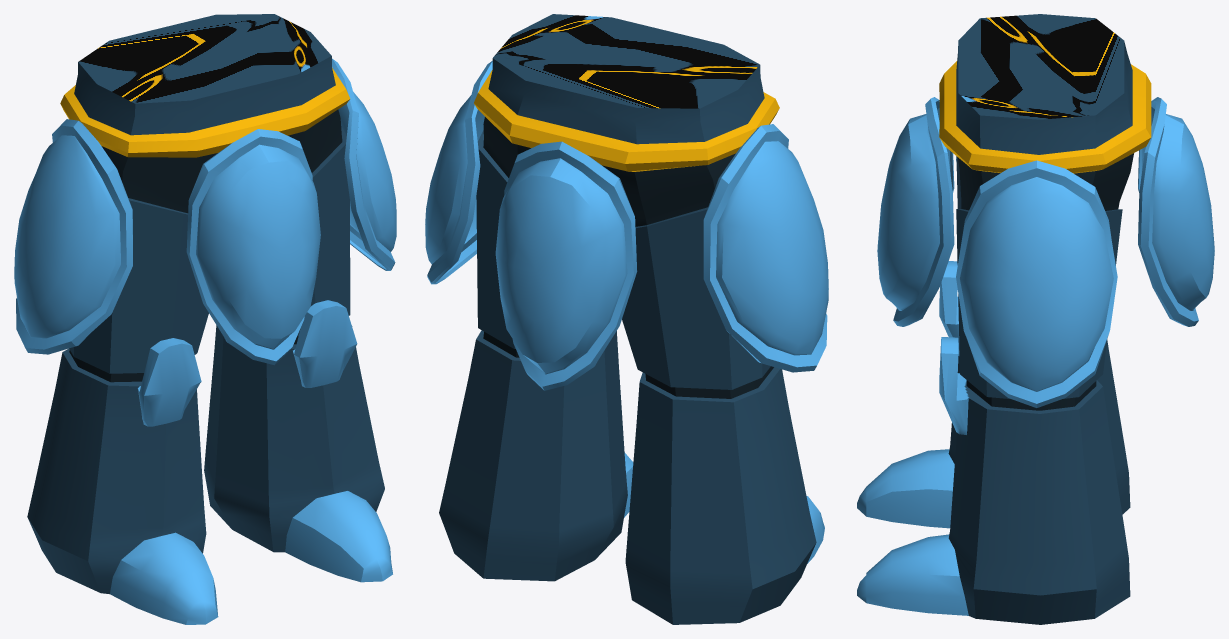
Rendered from Shovel_Knight_Legs.fbx.
3 views of the same model, side by side, from view 1: azimuth 30°, elevation 25°; view 2: azimuth 150°, elevation 25°; view 3: azimuth 270°, elevation 25° (orthographic). The views are drawn at different scales.
Parts seen in each view (by area): view 1: Shovel_knight_Legs, BeltShields, BeltShields.001; view 2: Shovel_knight_Legs, BeltShields, BeltShields.001; view 3: Shovel_knight_Legs, BeltShields, BeltShields.001.
Boxes of the visible parts, x1=… form: Shovel_knight_Legs: x1=27, y1=14, x2=392, y2=624; BeltShields: x1=14, y1=58, x2=396, y2=354; BeltShields.001: x1=186, y1=129, x2=320, y2=365; Shovel_knight_Legs: x1=439, y1=14, x2=824, y2=624; BeltShields: x1=425, y1=61, x2=828, y2=372; BeltShields.001: x1=495, y1=141, x2=637, y2=390; Shovel_knight_Legs: x1=857, y1=14, x2=1151, y2=624; BeltShields: x1=956, y1=158, x2=1117, y2=407; BeltShields.001: x1=877, y1=97, x2=1214, y2=326.
Size of the model in its own units: 3.02 by 3.83 by 2.56.
